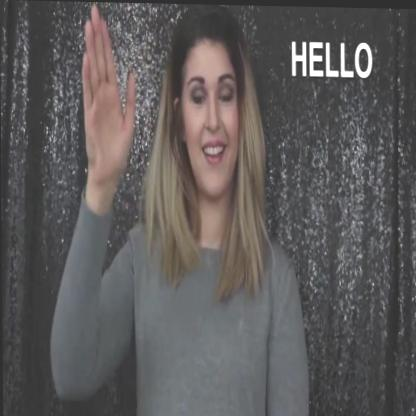Hello: (81, 1, 252, 231)
